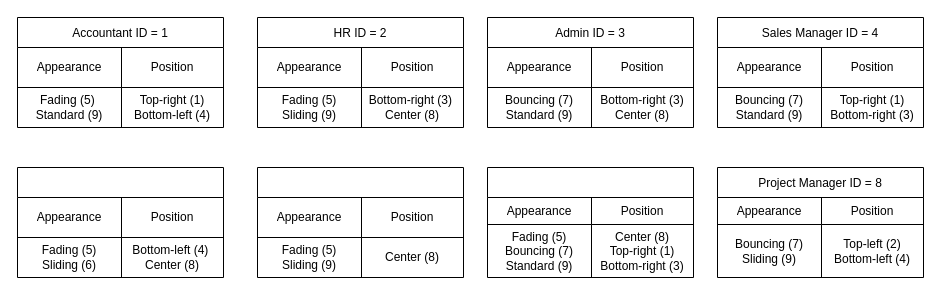
This 941x295 diagram has some shape labels left out. The box of each missing label's shape, as (x1, y1, x2, y2) in pixels:
Data Analyst ID = 6: (256, 166, 464, 278)
Executive Management ID = 7: (486, 166, 694, 278)
Warehouse Manager ID = 5: (16, 166, 224, 278)
